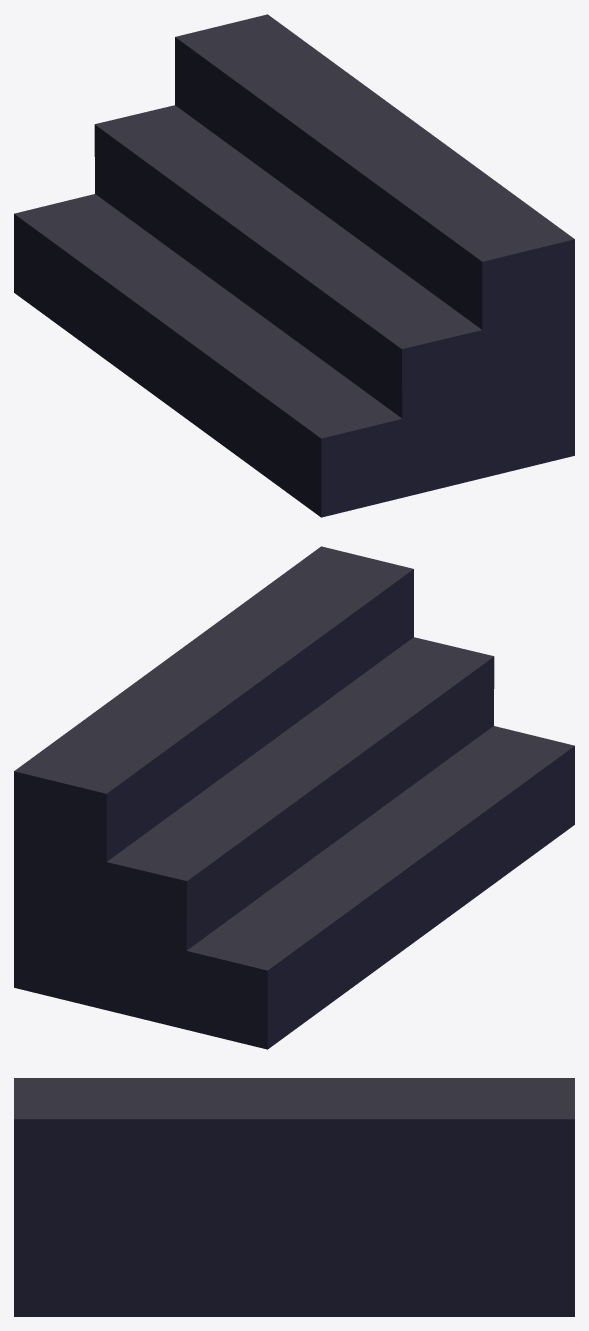
The model's file is Steps.fbx.
3 renders of one model, top to bottom at view 1: azimuth 30°, elevation 25°; view 2: azimuth 150°, elevation 25°; view 3: azimuth 270°, elevation 25°, orthographic. The views are drawn at different scales.
Parts seen in each view (by area): view 1: Steps; view 2: Steps; view 3: Steps.
Part boxes in pixels (x1,y1,x2,y2): Steps: (14,14,574,517); Steps: (14,546,574,1049); Steps: (14,1078,574,1316).
Bounding box in the file's own units: 242 × 197 × 507.
